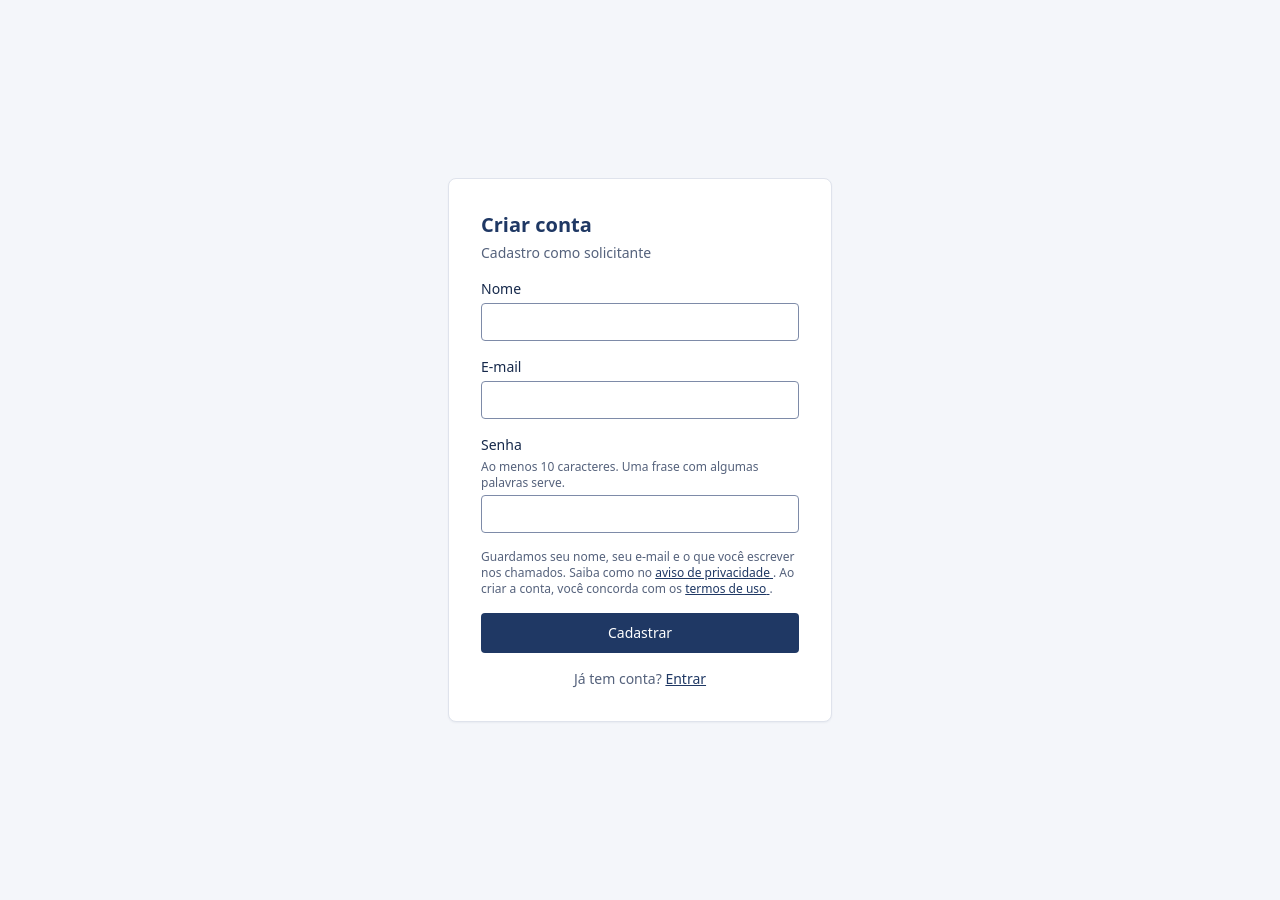
Tela de cadastro › com aprovação, diz que o pedido espera a gestão em vez de mandar ao login
Type "Ana Souza" into the field labelled "Nome".
click(640, 322); type("Ana Souza")  # box [481,303,799,341]
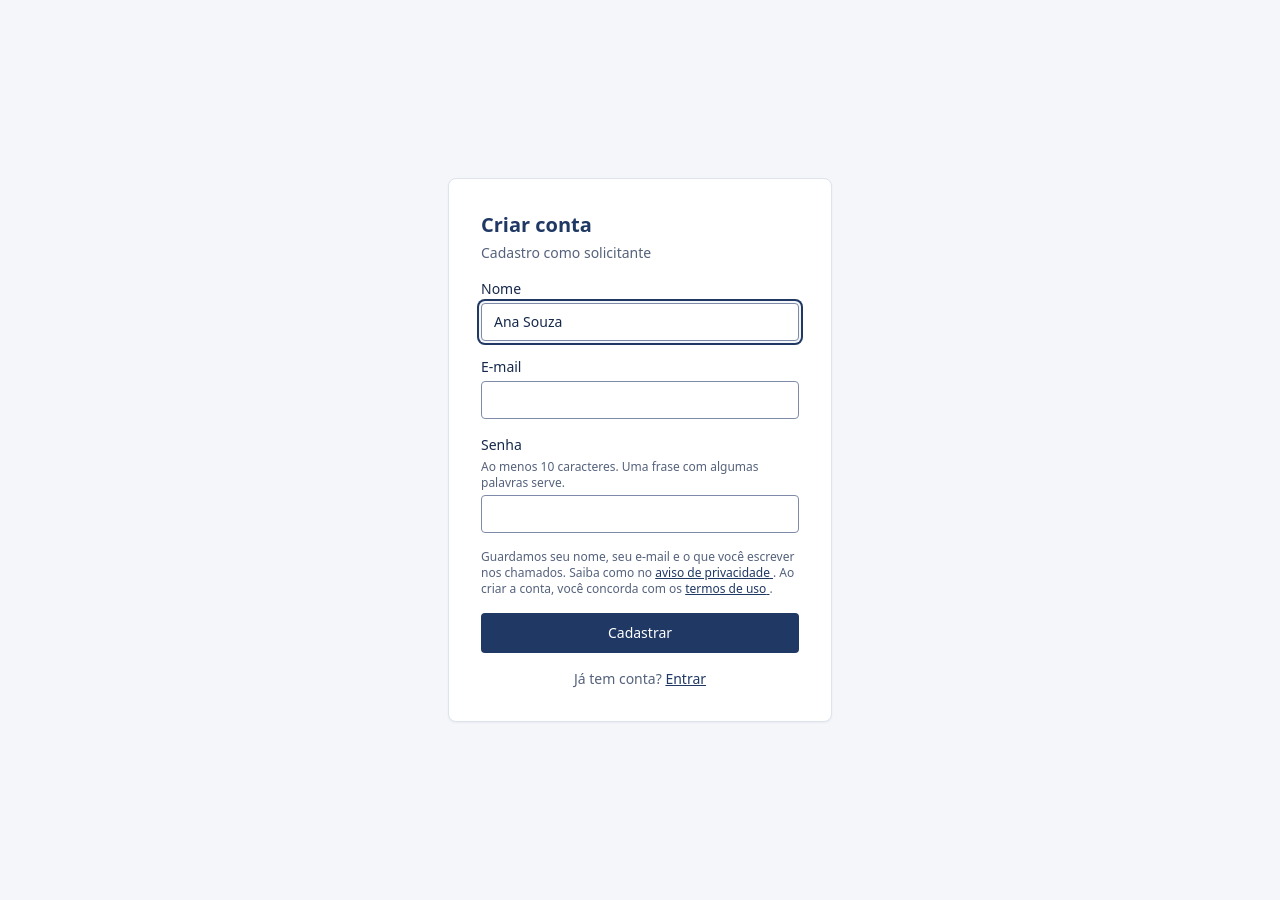
Type "ana@exemplo.com" into the field labelled "E-mail".
click(640, 400); type("ana@exemplo.com")  # box [481,381,799,419]
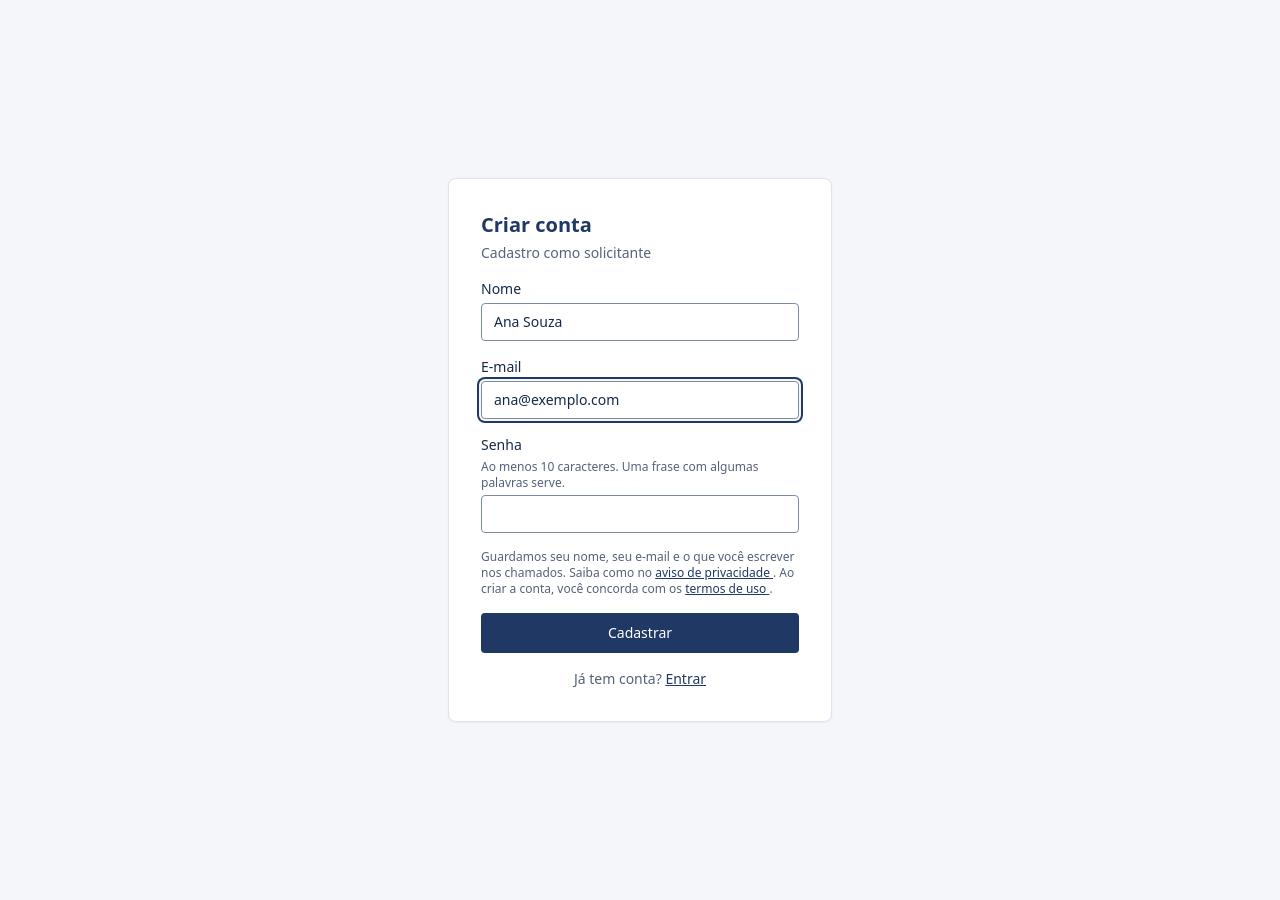
Type "senha-teste-123" into the password field labelled "Senha".
click(640, 514); type("senha-teste-123")  # box [481,495,799,533]
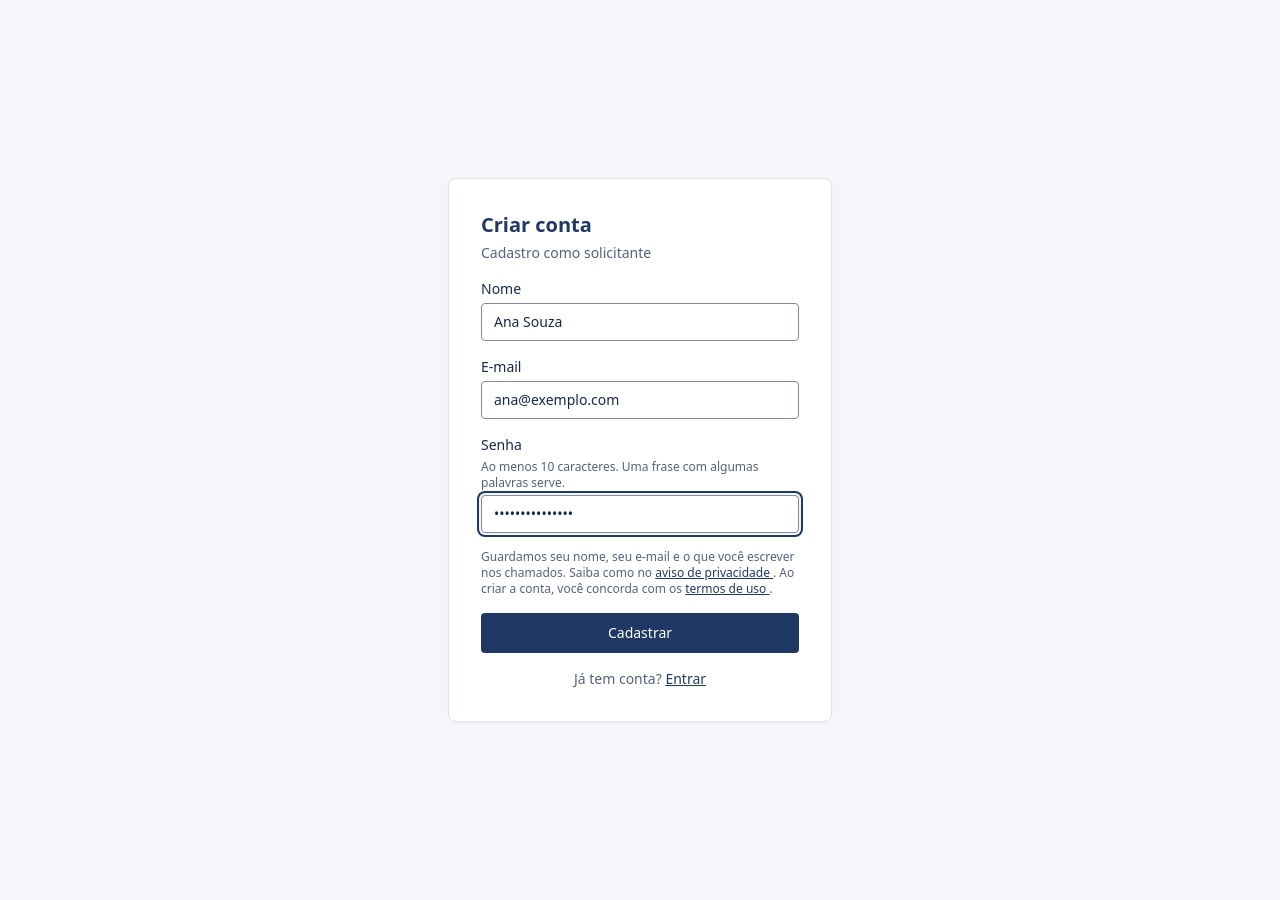
Click the button "Cadastrar".
click(640, 633)  # box [481,613,799,653]
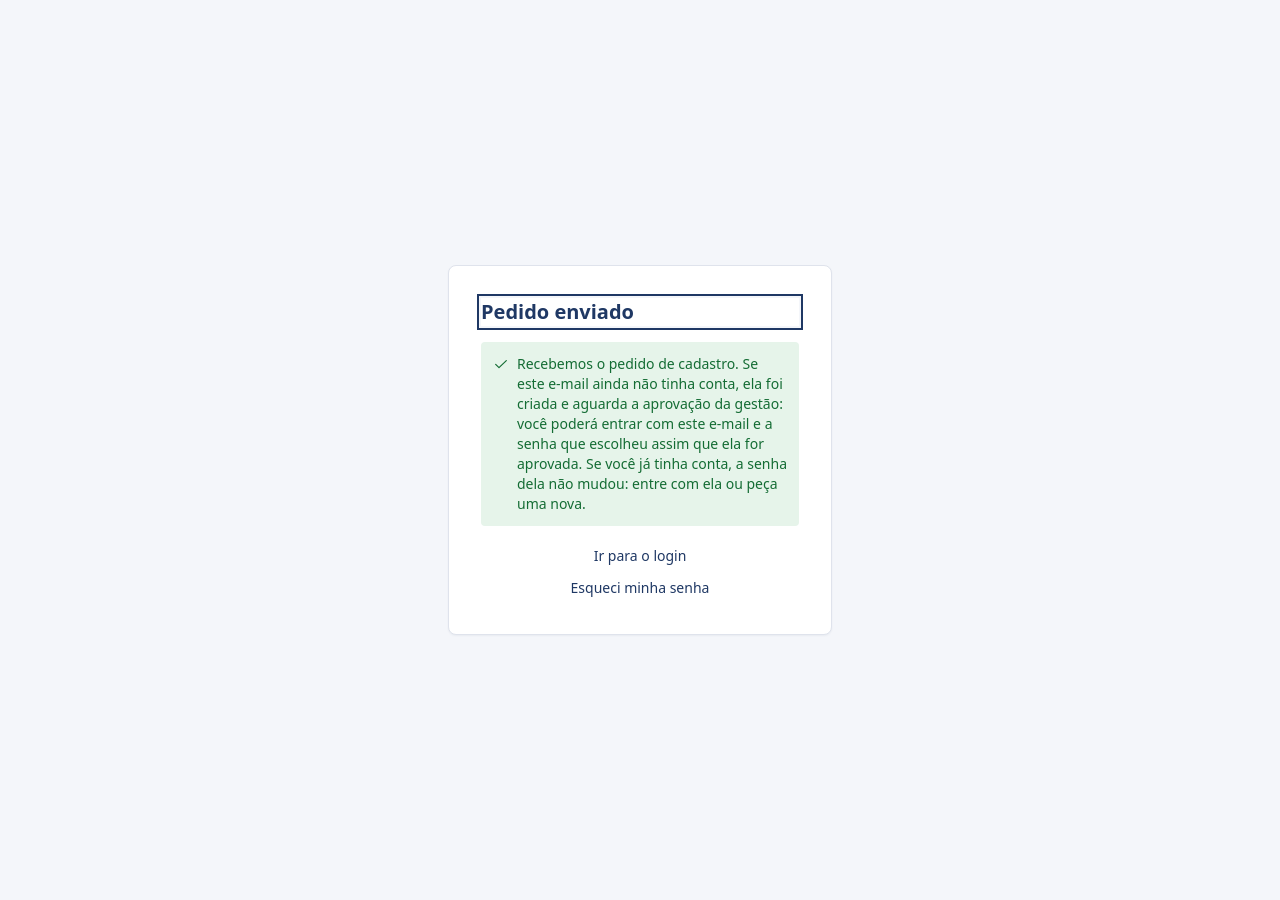
expect the text "aguarda a aprovação da gestão" is shown: met, box [517,354,783,473]
expect the link "Ir para o login" is shown: met, box [594,546,686,565]
